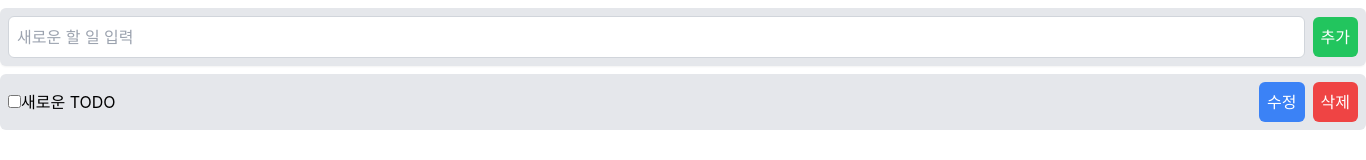
Test case: Todo 컴포넌트 테스트 › TODO ITEM 수정버튼을 클릭하면 TODO ITEM의 내용을 수정할 수 있다
Click the button with test id "modify-button". click: (1282, 102)
box: x1=1259 y1=82 x2=1305 y2=122
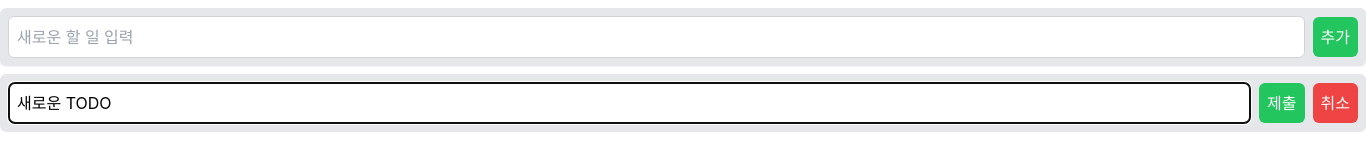
Now the field with test id "modify-input" is shown, box x1=8 y1=82 x2=1251 y2=124
Now the button with test id "submit-button" is shown, box x1=1259 y1=83 x2=1305 y2=123
Now the button with test id "cancel-button" is shown, box x1=1312 y1=83 x2=1358 y2=123
